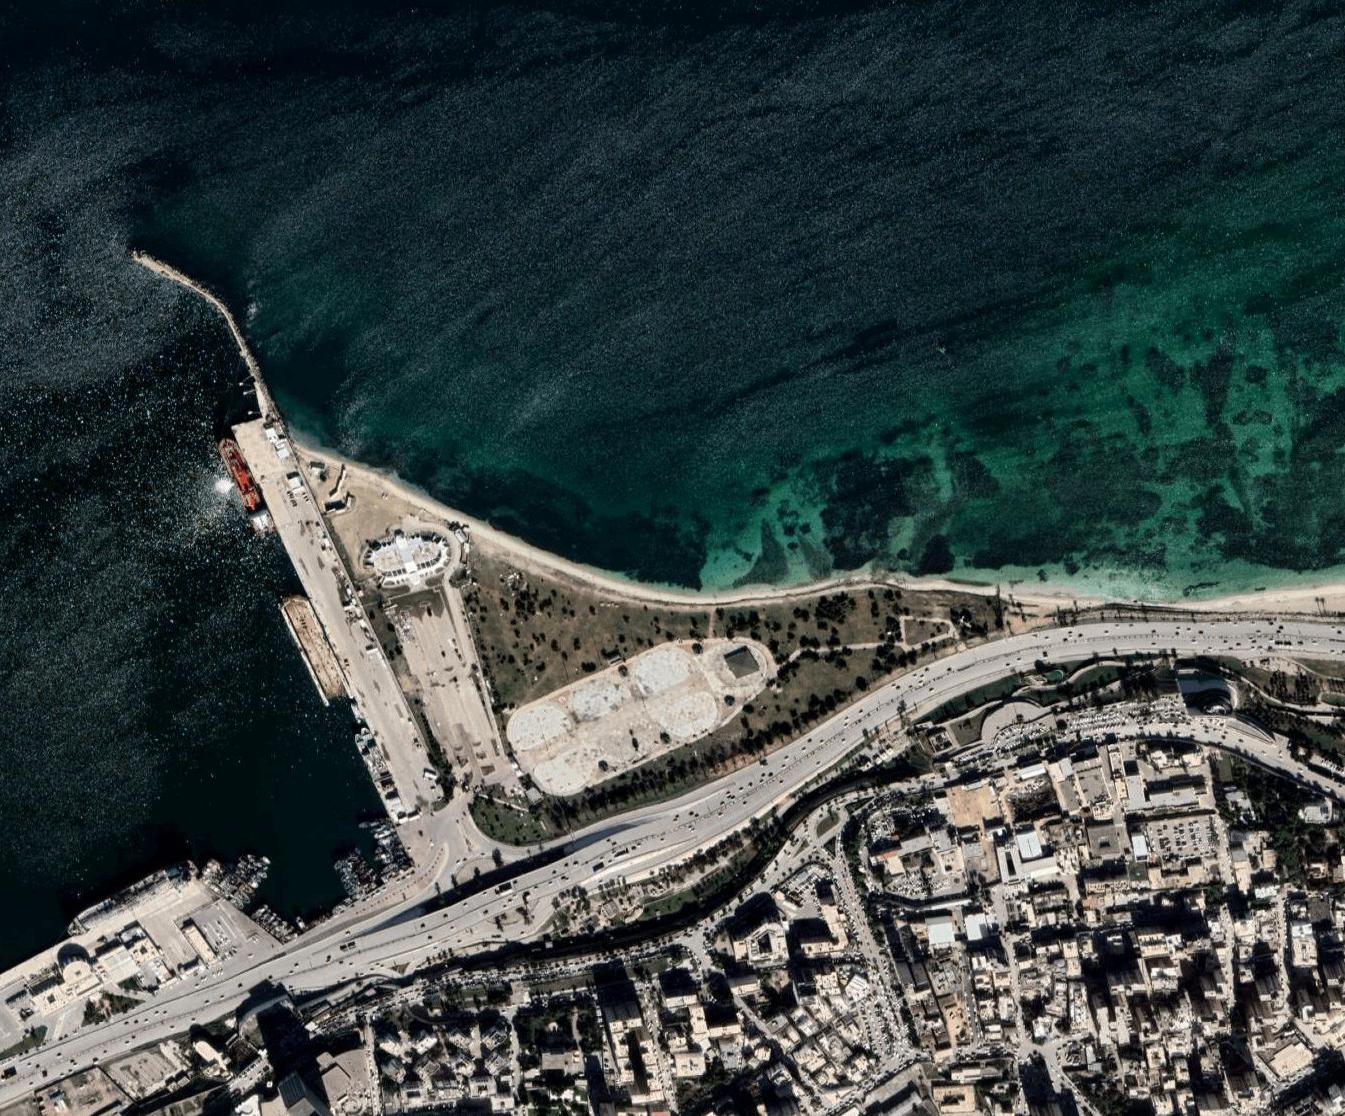harbor: (85, 228, 614, 812)
